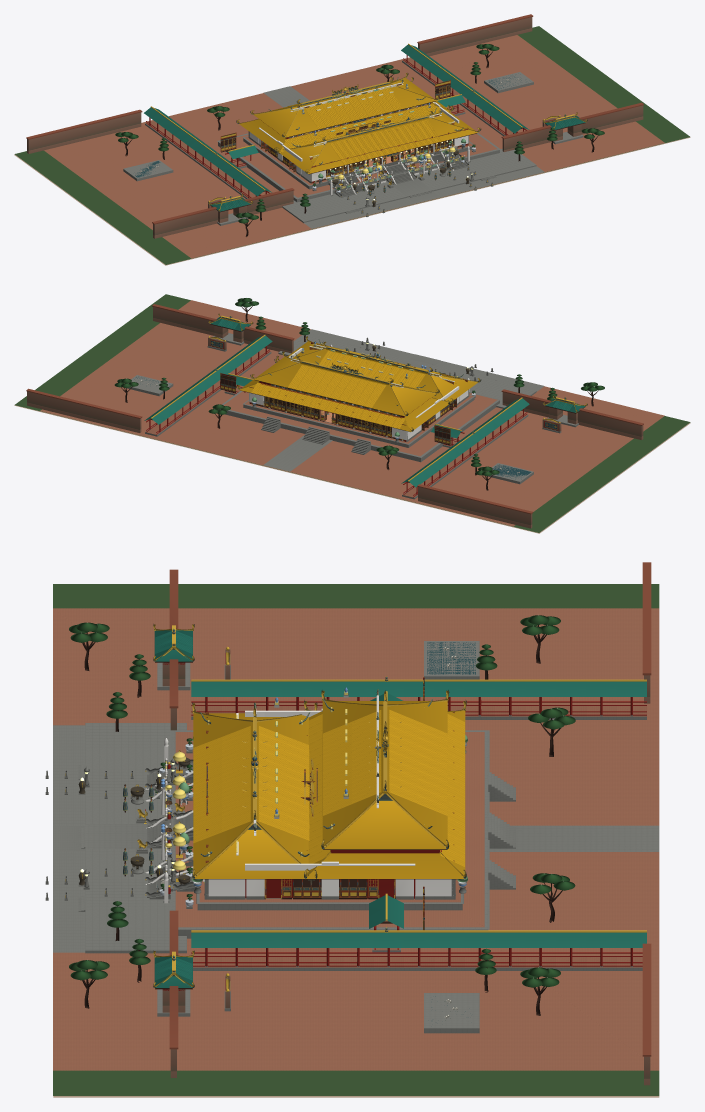
The model's file is T04_dien_thai_hoa.glb.
3 views of the same model, one above another, from view 1: azimuth 30°, elevation 25°; view 2: azimuth 150°, elevation 25°; view 3: azimuth 270°, elevation 25° (orthographic). The views are drawn at different scales.
Visible parts, largest first — view 1: T04_Main_Architecture, Hero_CotHienRongTrang_CoDiemPhapLam_LanCan_V21, T04_V2_Satellite_Seamless_Base, Hero_TuongHoi_VoiTrang_ChuTho_Tay_V21; view 2: T04_Main_Architecture, T04_V2_Satellite_Seamless_Base, Hero_CotHienRongTrang_CoDiemPhapLam_LanCan_V21, Hero_TuongHoi_VoiTrang_ChuTho_Tay_V21; view 3: T04_Main_Architecture, Hero_CotHienRongTrang_CoDiemPhapLam_LanCan_V21, Hero_TuongHoi_VoiTrang_ChuTho_Dong_V21, T04_V2_Satellite_Seamless_Base, TruongLang_21, TruongLang_10, TruongLang_13, TruongLang_18, TruongLang_19, TruongLang_20, TruongLang_22, TruongLang_24 (+23 smaller).
Part boxes in pixels (x1,y1,x2,y2): T04_Main_Architecture: [14, 14, 689, 264]; Hero_CotHienRongTrang_CoDiemPhapLam_LanCan_V21: [268, 77, 470, 196]; T04_V2_Satellite_Seamless_Base: [14, 137, 690, 265]; Hero_TuongHoi_VoiTrang_ChuTho_Tay_V21: [248, 127, 325, 183]; T04_Main_Architecture: [15, 294, 690, 532]; T04_V2_Satellite_Seamless_Base: [14, 405, 690, 533]; Hero_CotHienRongTrang_CoDiemPhapLam_LanCan_V21: [268, 339, 469, 405]; Hero_TuongHoi_VoiTrang_ChuTho_Tay_V21: [392, 386, 469, 442]; T04_Main_Architecture: [53, 562, 659, 1095]; Hero_CotHienRongTrang_CoDiemPhapLam_LanCan_V21: [145, 687, 432, 903]; Hero_TuongHoi_VoiTrang_ChuTho_Dong_V21: [192, 861, 467, 899]; T04_V2_Satellite_Seamless_Base: [53, 1096, 659, 1097]; TruongLang_21: [312, 930, 343, 970]; TruongLang_10: [495, 679, 525, 719]; TruongLang_13: [586, 679, 616, 719]; TruongLang_18: [221, 930, 251, 970]; TruongLang_19: [252, 930, 282, 970]; TruongLang_20: [282, 930, 312, 970]; TruongLang_22: [343, 930, 373, 970]; TruongLang_24: [404, 930, 434, 970].
Bounding box in the file's own units: 140 × 13.85 × 70.7.
35 materials, 6 textured.
